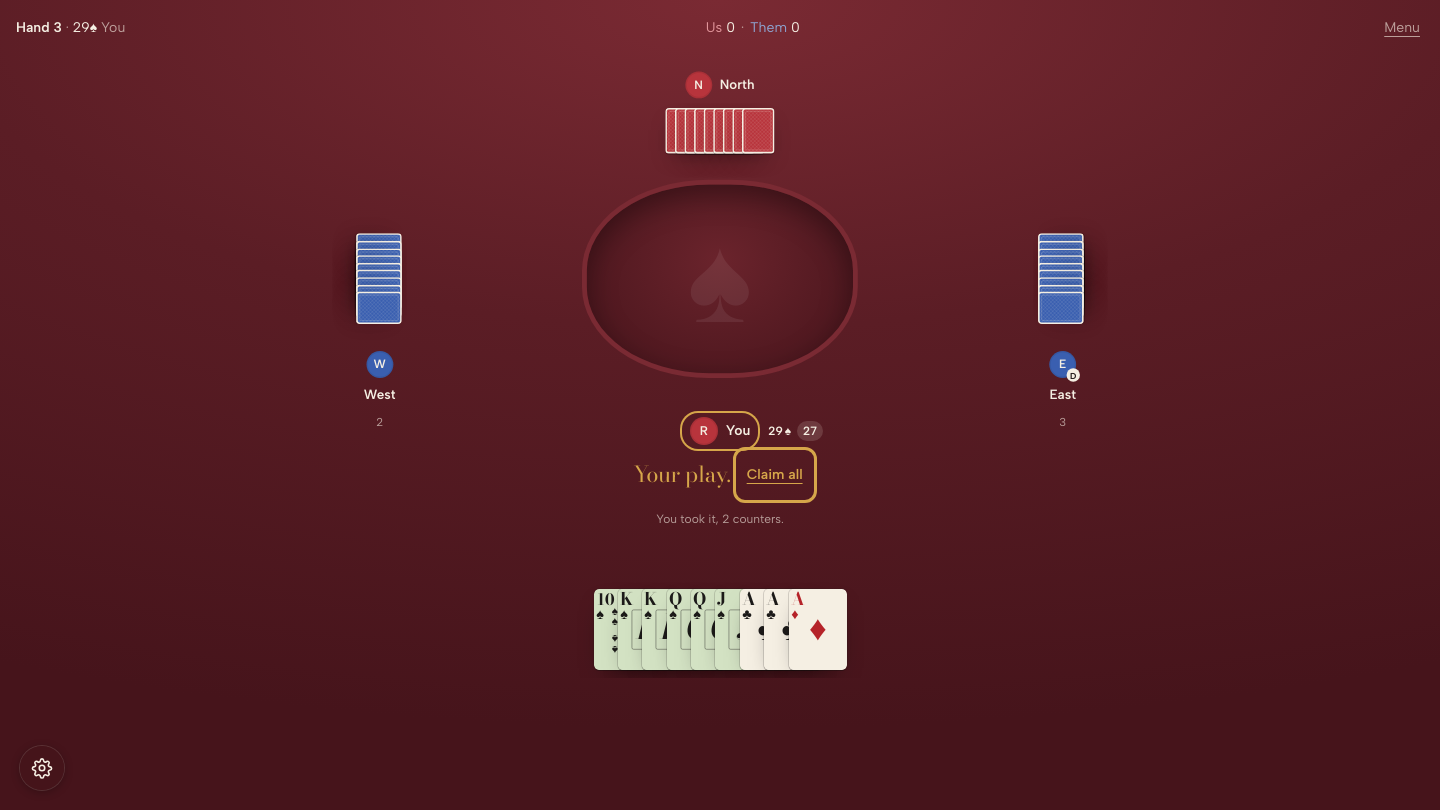
Test: sends a single claim on one tap from the native keyboard-accessible button
Expected: the button "10 ♠ ♠ ♠ ♠ ♠ ♠ ♠ ♠ ♠ ♠ ♠" is shown, left=594, top=589, right=652, bottom=670
What coordinates should you click on to do the following:
click the button "Claim all"
I would click on:
 (775, 475)
Its box is left=739, top=453, right=811, bottom=497.
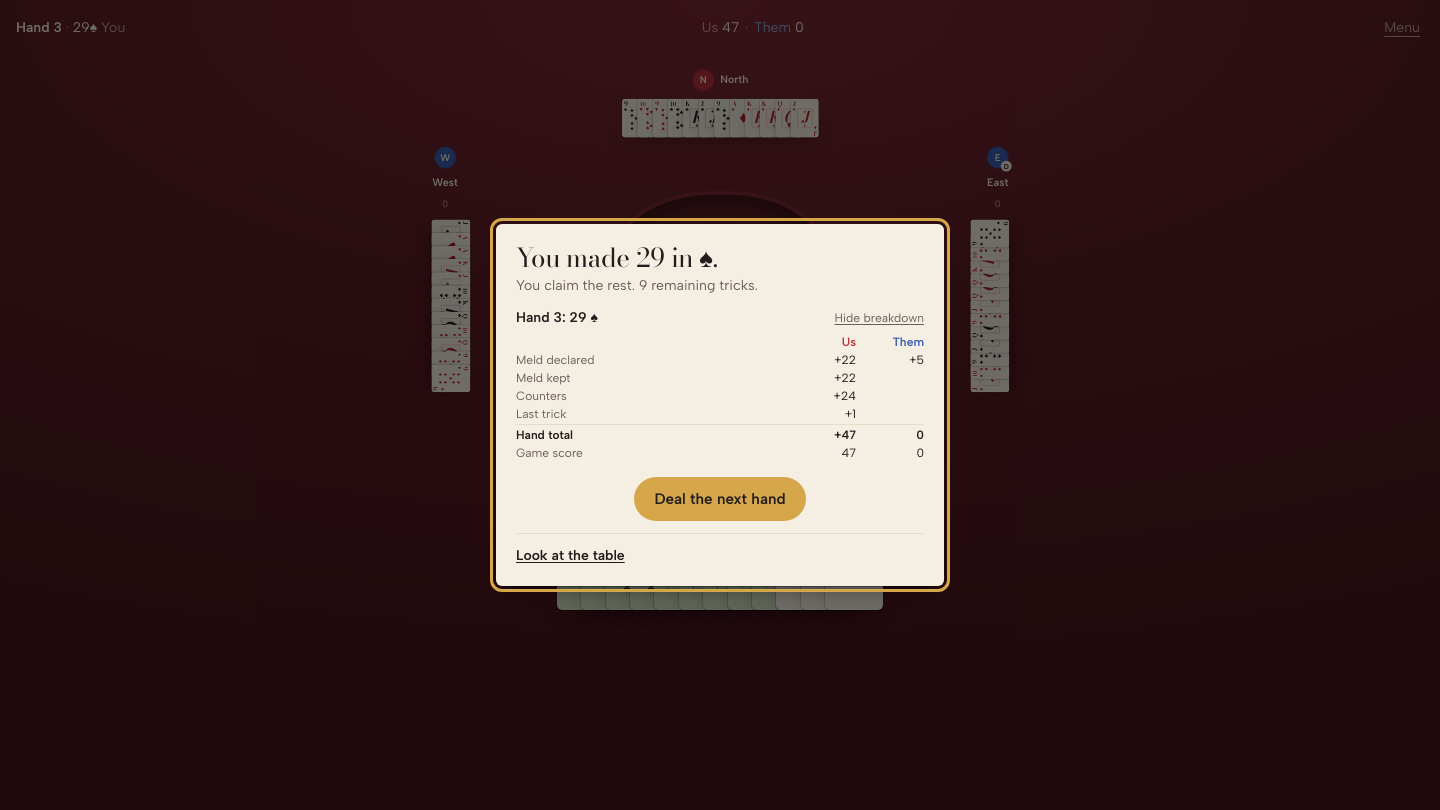
Expected: the dialog is shown, left=496, top=224, right=944, bottom=586
Expected: the text "You claim the rest. 9 remaining tricks." is shown, left=516, top=277, right=758, bottom=294
Expected: the button "Claim all" is gone
